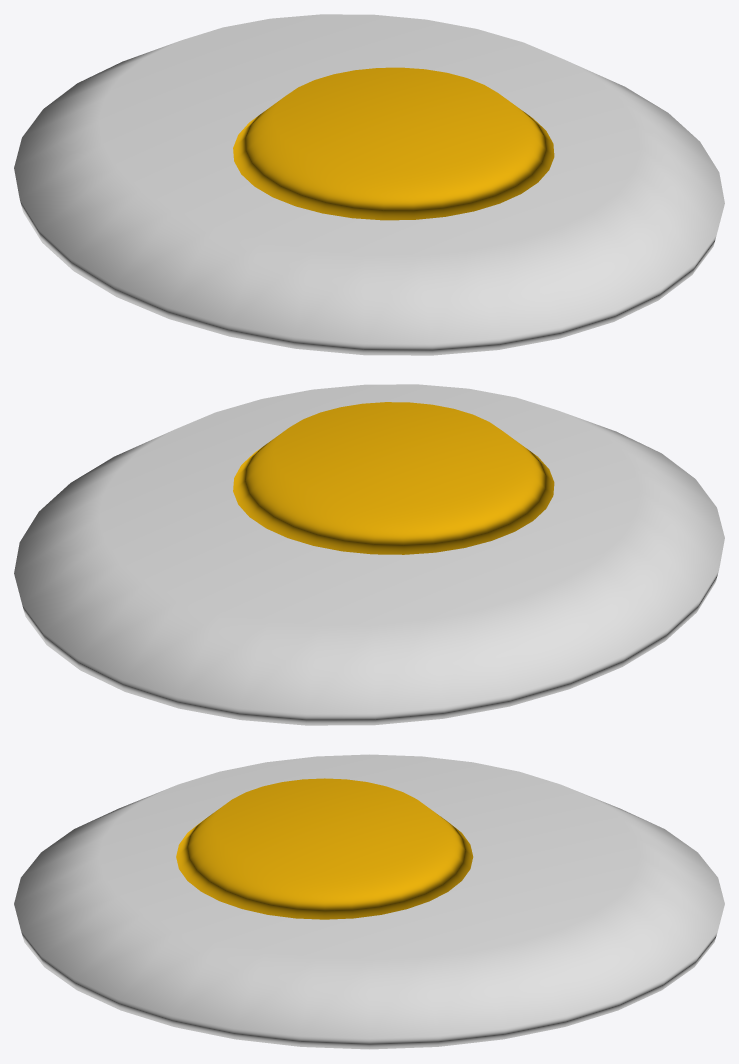
File: EggBaked.fbx
The picture shows the model from 3 angles, top to bottom: view 1: azimuth 30°, elevation 25°; view 2: azimuth 150°, elevation 25°; view 3: azimuth 270°, elevation 25°; orthographic projection. The views are drawn at different scales.
Parts seen in each view (by area): view 1: 円柱, 円柱.001; view 2: 円柱, 円柱.001; view 3: 円柱, 円柱.001.
Boxes of the visible parts, <box> form: 円柱: <box>14,14,724,355</box>; 円柱.001: <box>233,67,554,220</box>; 円柱: <box>14,384,724,725</box>; 円柱.001: <box>233,402,554,554</box>; 円柱: <box>14,754,724,1049</box>; 円柱.001: <box>176,778,473,919</box>.
Bounding box in the file's own units: 330 × 51.94 × 369.
